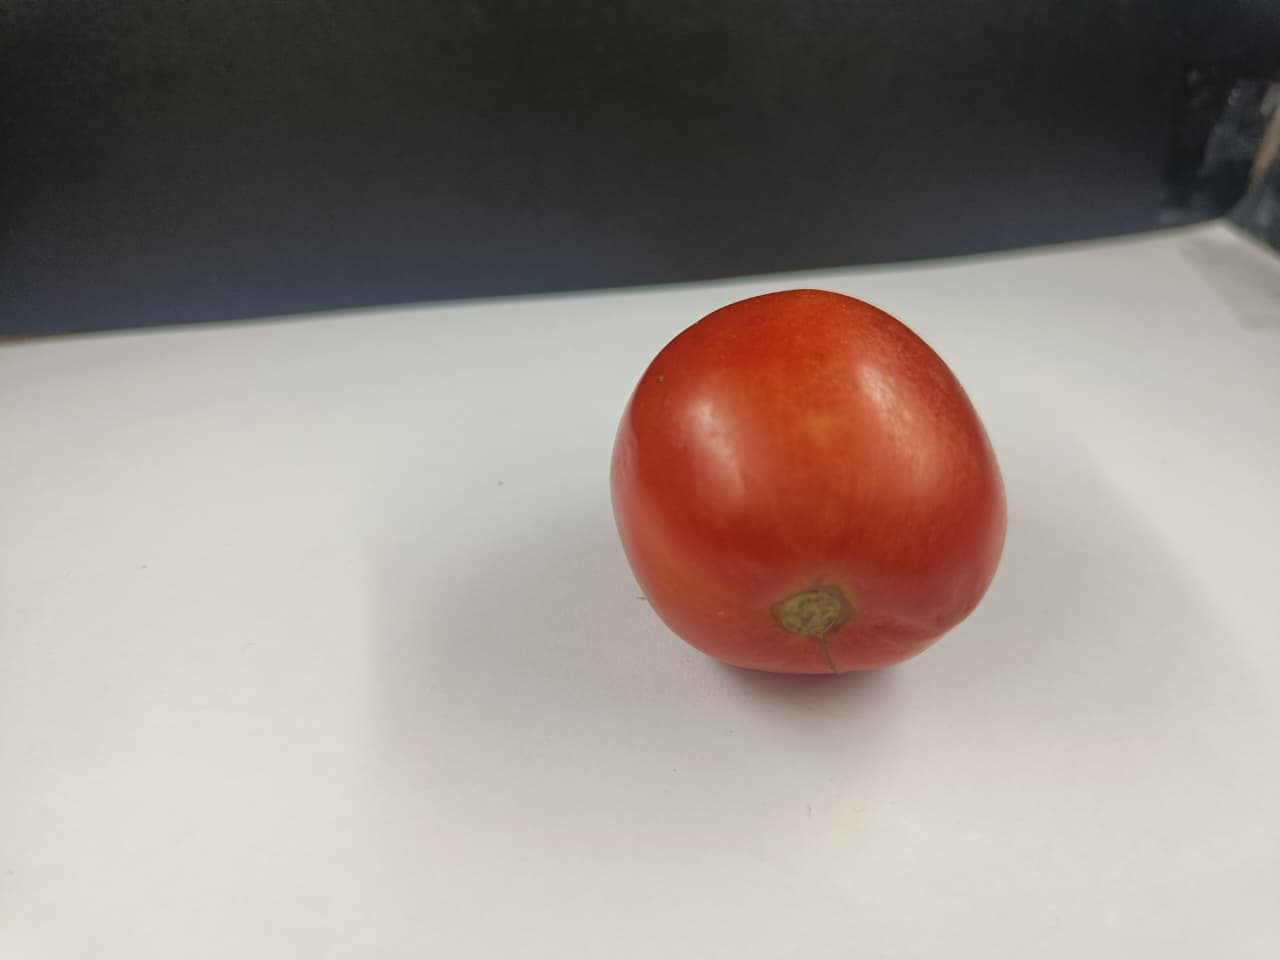ripe: (603, 284, 1023, 688)
